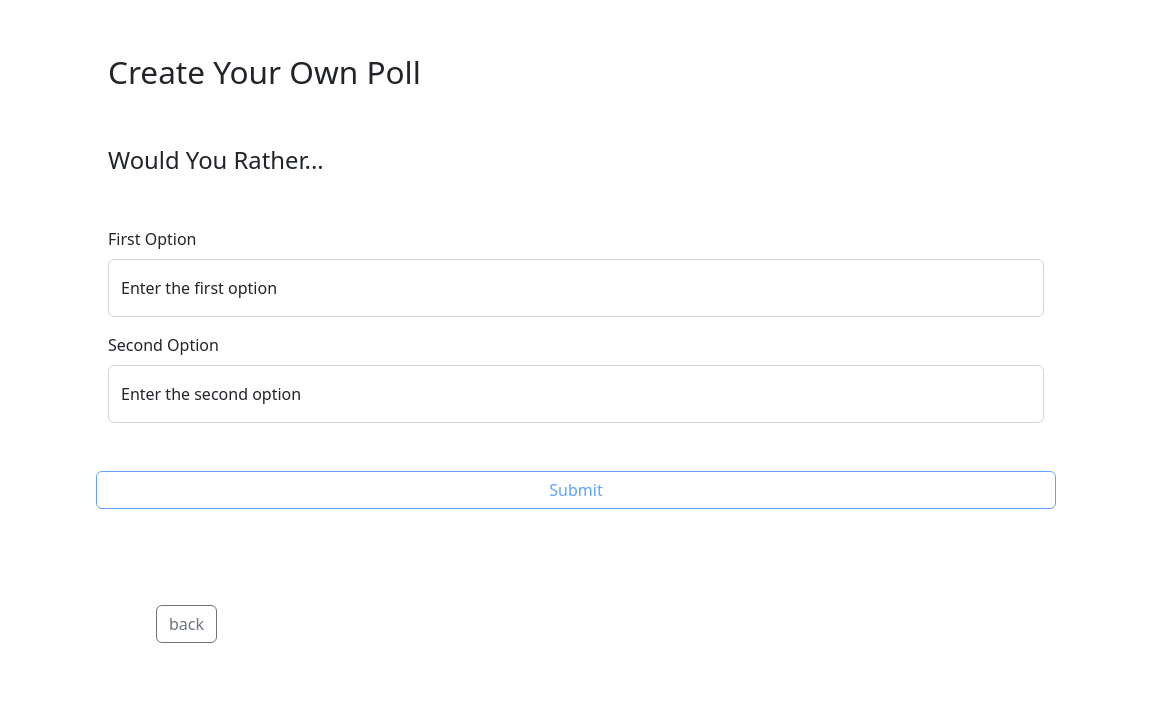
Test: NewQuestion › check if the submit button is enabled as soon as we write the two vote options
Step 1. Type "read a newspaper" into the field with placeholder "Enter the first option" → [576, 288], box [108,259,1044,317]
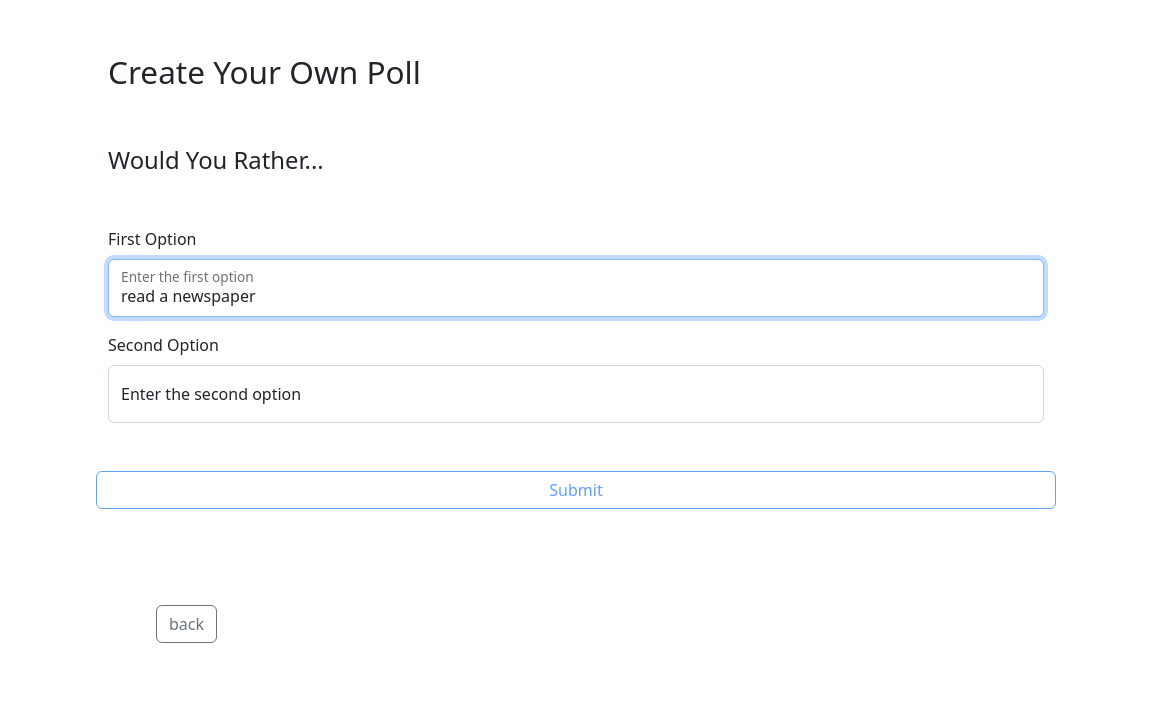
Step 2. Type "read a book" into the field with placeholder "Enter the second option" → [576, 394], box [108,365,1044,423]
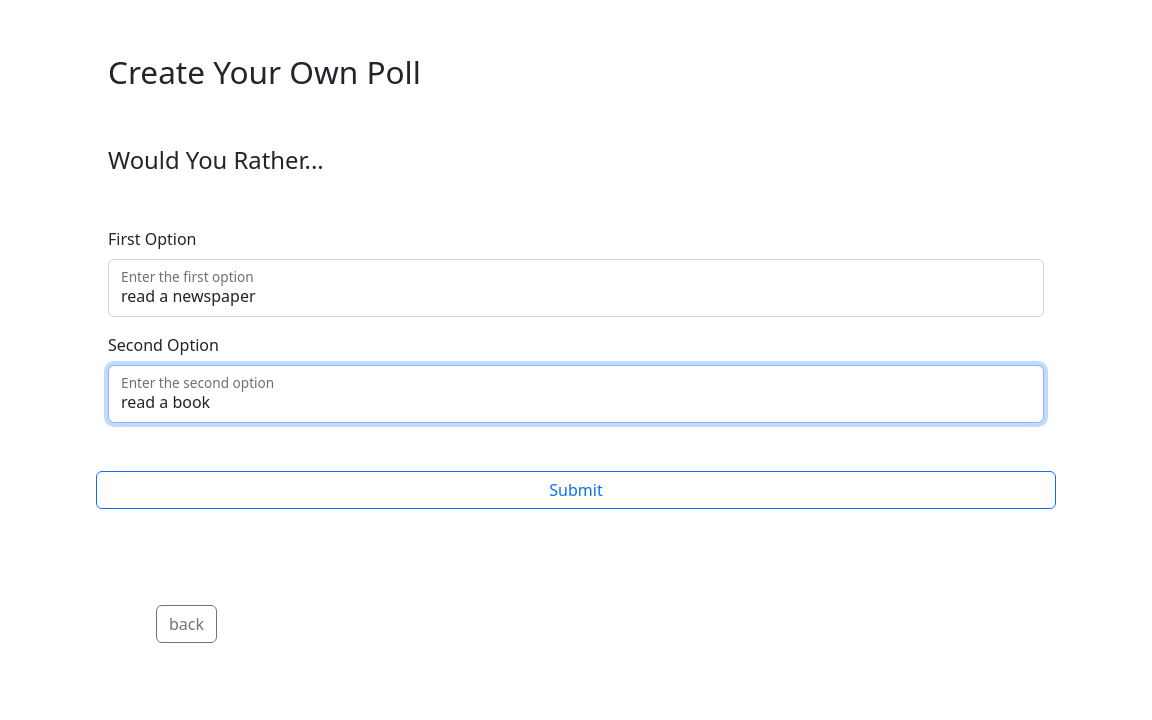
Now the button "Submit" is enabled, box [96,471,1056,509]
